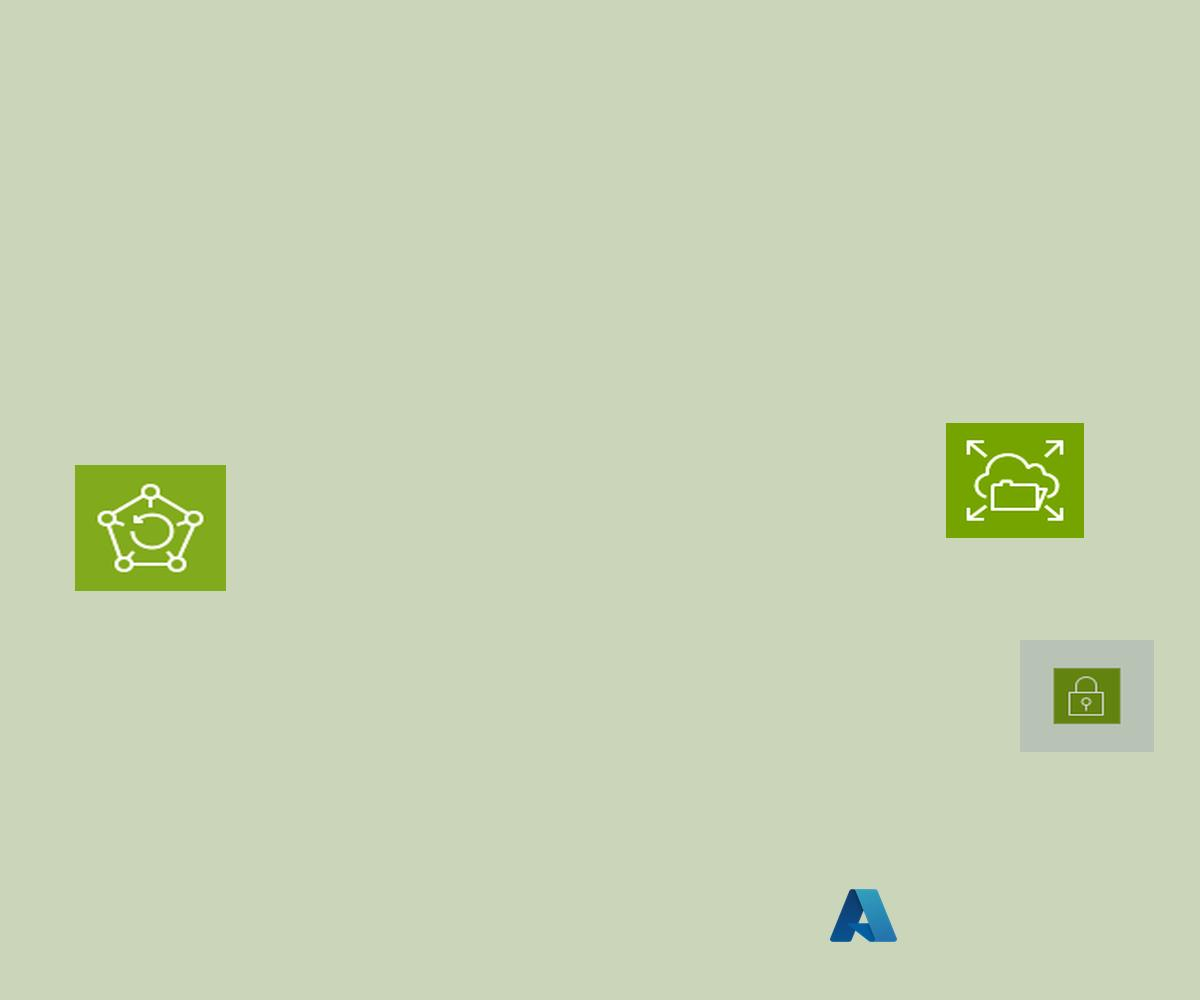AWS-Backup: (75, 465, 226, 591)
AWS-EFS: (946, 423, 1084, 538)
AWS-Public-subnet: (1020, 640, 1154, 752)
Azure_services: (827, 885, 900, 946)
